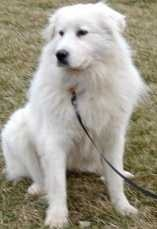Dog: (15, 2, 144, 212)
